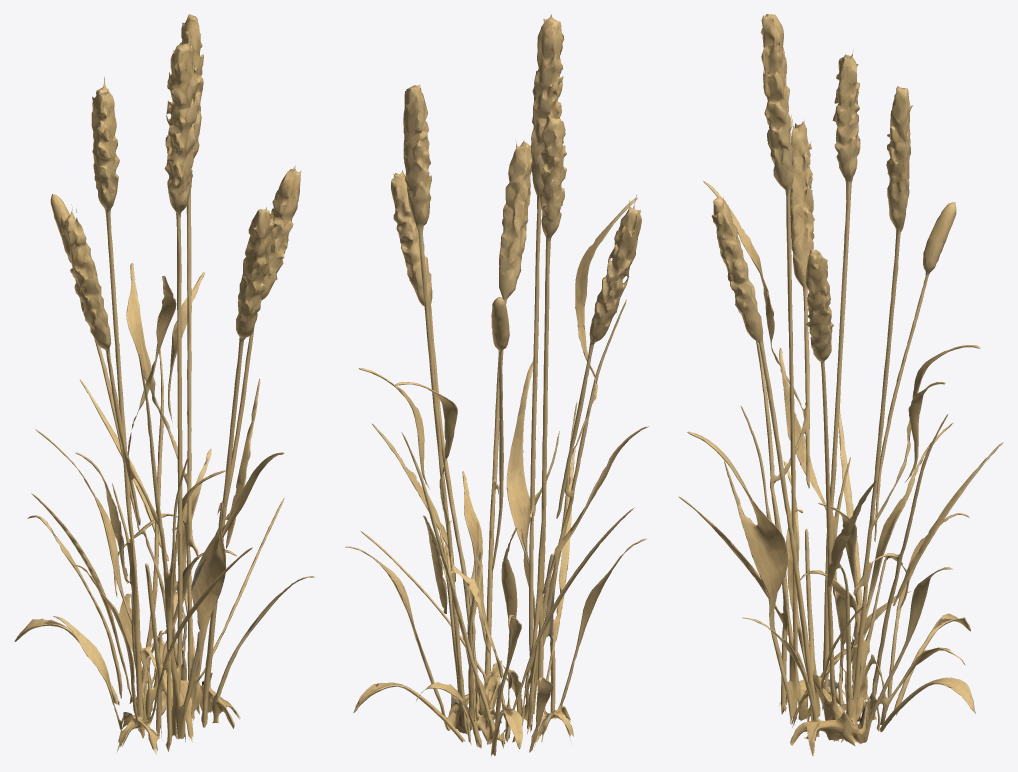
Rendered from wheat-a.glb.
The picture shows the model from 3 angles, left to right: view 1: azimuth 30°, elevation 25°; view 2: azimuth 150°, elevation 25°; view 3: azimuth 270°, elevation 25°; orthographic projection. The views are drawn at different scales.
Visible parts, largest first — view 1: Mesh_0; view 2: Mesh_0; view 3: Mesh_0.
Boxes of the visible parts, box(x1,y1,x2,y2) form: Mesh_0: box(14, 14, 314, 755); Mesh_0: box(345, 14, 648, 756); Mesh_0: box(678, 14, 1003, 756).
Size of the model in its own units: 0.3513 by 0.9 by 0.3735.
Materials: 1 (1 with a texture image).
